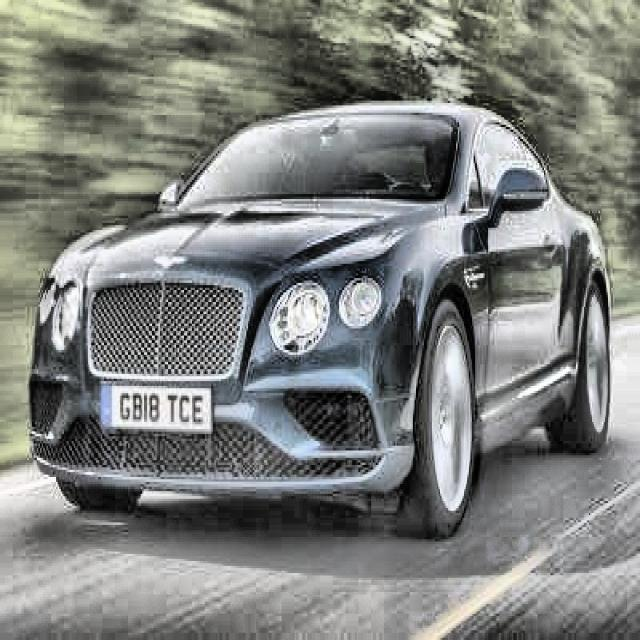license_plate: (98, 380, 209, 434)
